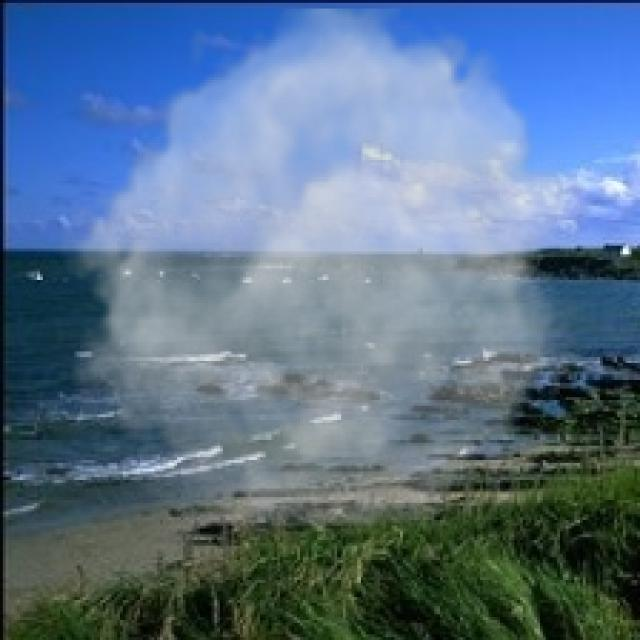smoke: (54, 8, 592, 526)
